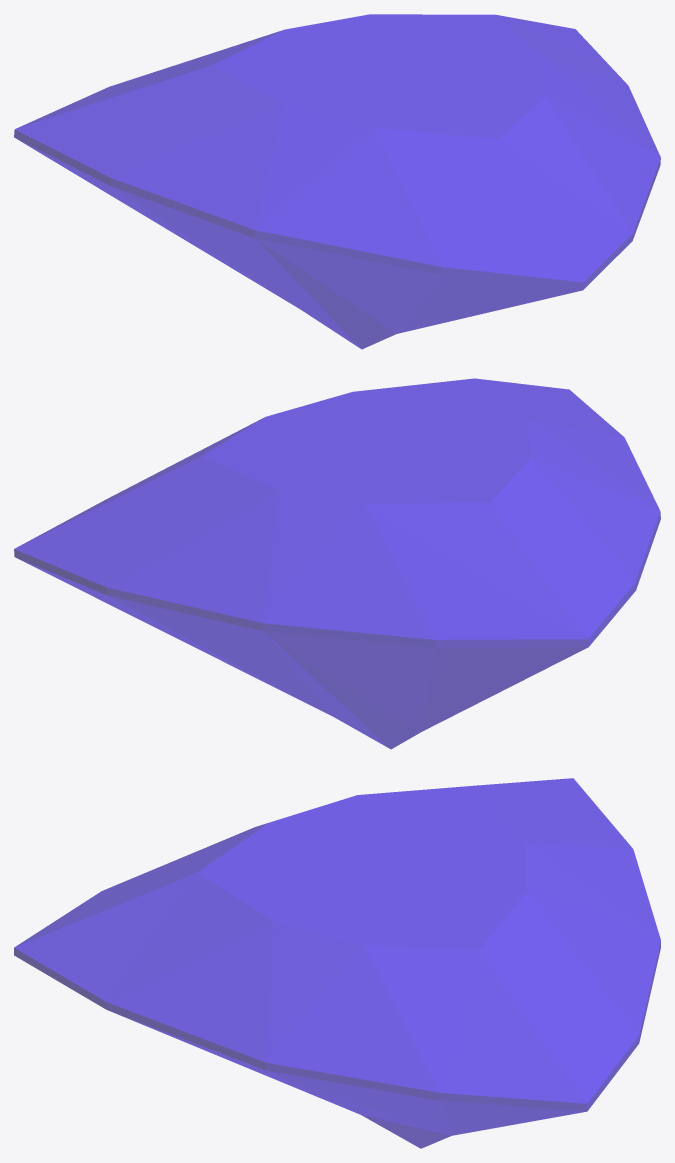
The model's file is september.glb.
The picture shows the model from 3 angles, top to bottom: view 1: azimuth 30°, elevation 25°; view 2: azimuth 150°, elevation 25°; view 3: azimuth 270°, elevation 25°; orthographic projection.
Visible parts, largest first — view 1: sapphire; view 2: sapphire; view 3: sapphire.
Part boxes in pixels (<box>): sapphire: <box>14,14,660,349</box>; sapphire: <box>14,378,660,749</box>; sapphire: <box>14,778,660,1148</box>.
Size of the model in its own units: 1226 by 611 by 1189.
1 material, 1 textured.
